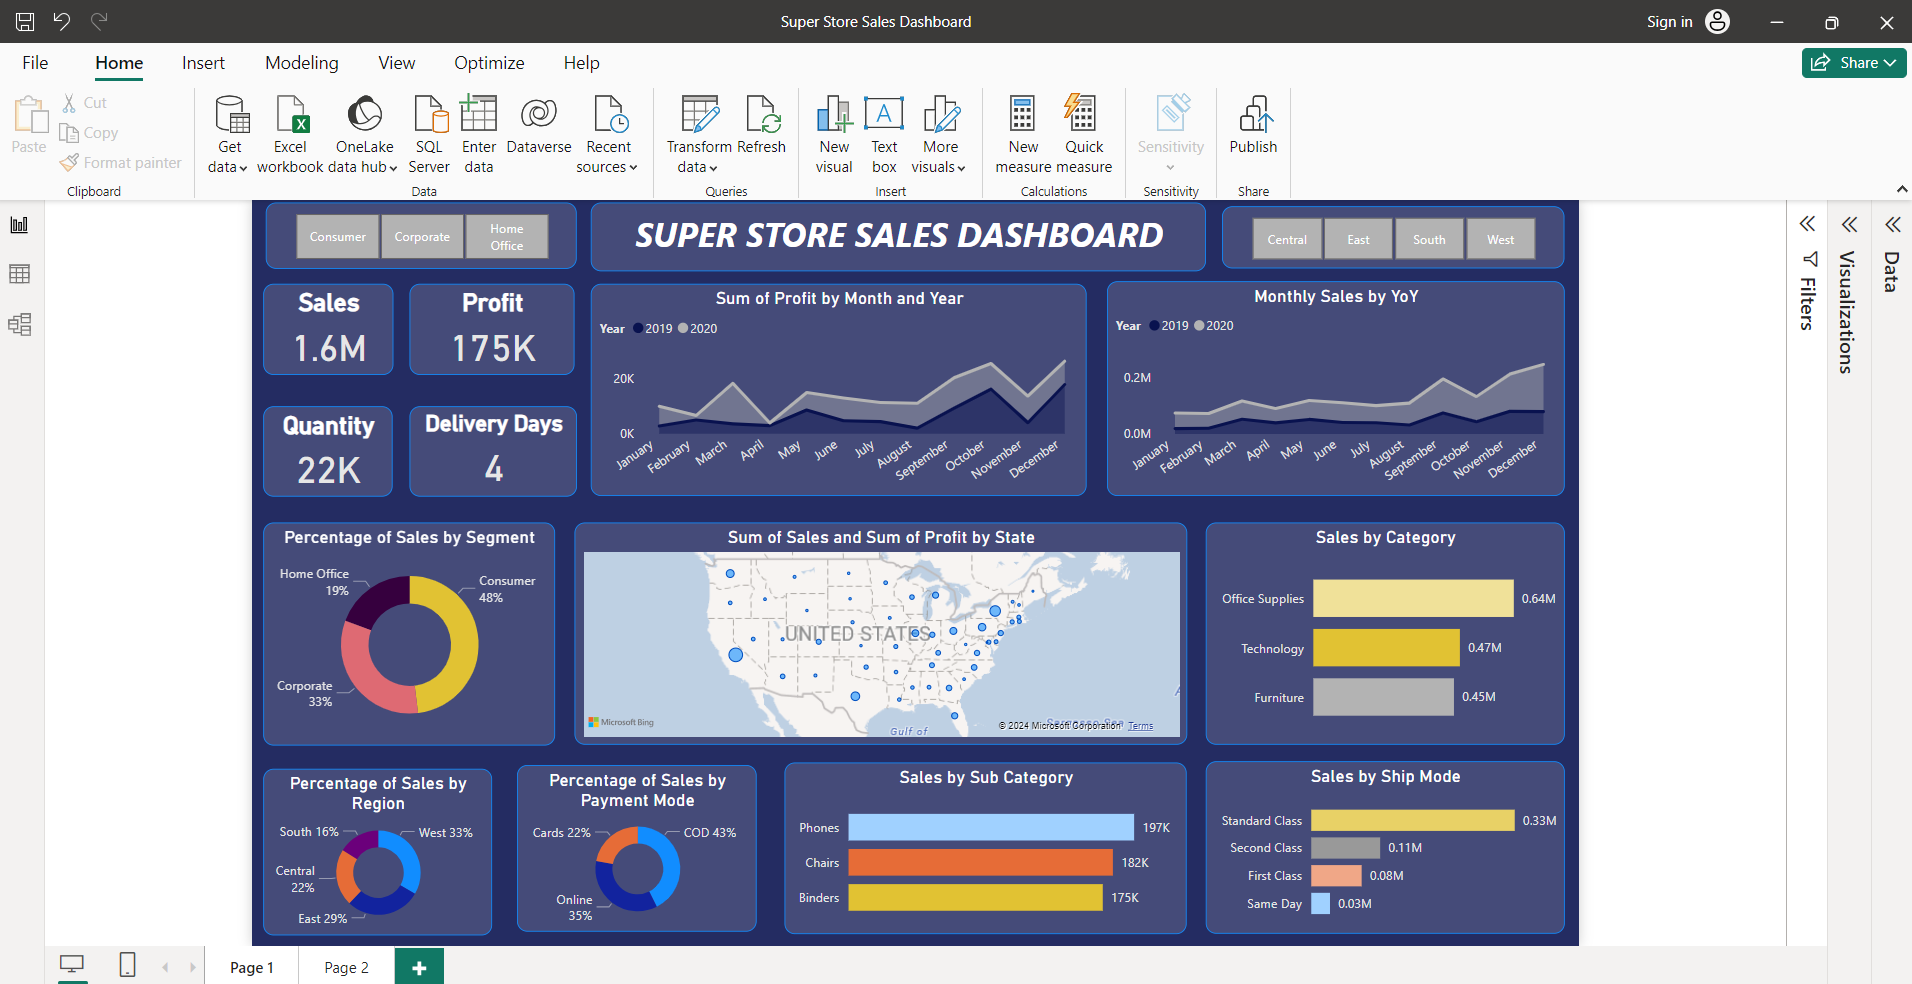

The dashboard page shown, as its layout file describes it:
{"tool":"powerbi","page":{"name":"Page 1","canvas":[1280,720],"ordinal":0},"visuals":[{"type":"clusteredBarChart","title":"Sales by Category","fields":{"Category":["SuperStore_Sales_Dataset.Category"],"Y":["Sum(SuperStore_Sales_Dataset.Sales)"]},"box":[920.2,311.2,346.1,214.7],"z":0},{"type":"clusteredBarChart","title":"Sales by Sub Category","fields":{"Category":["SuperStore_Sales_Dataset.Sub-Category"],"Y":["Sum(SuperStore_Sales_Dataset.Sales)"]},"box":[513.8,542.7,388.3,165.2],"z":1000},{"type":"clusteredBarChart","title":"Sales by Ship Mode","fields":{"Category":["SuperStore_Sales_Dataset.Ship Mode"],"Y":["Sum(SuperStore_Sales_Dataset.Sales)"]},"box":[920,541.2,346.2,166.2],"z":2000},{"type":"stackedAreaChart","title":"Monthly Sales by YoY","fields":{"Y":["Sum(SuperStore_Sales_Dataset.Sales)"],"Category":["SuperStore_Sales_Dataset.Order Date.Variation.Date Hierarchy.Month","SuperStore_Sales_Dataset.Order Date.Variation.Date Hierarchy.Day"],"Series":["SuperStore_Sales_Dataset.Order Date.Variation.Date Hierarchy.Year"]},"box":[825,78.8,441.2,207.5],"z":3000},{"type":"stackedAreaChart","fields":{"Category":["SuperStore_Sales_Dataset.Order Date.Variation.Date Hierarchy.Month","SuperStore_Sales_Dataset.Order Date.Variation.Date Hierarchy.Day"],"Series":["SuperStore_Sales_Dataset.Order Date.Variation.Date Hierarchy.Year"],"Y":["Sum(SuperStore_Sales_Dataset.Profit)"]},"box":[326.2,81.2,478.8,205],"z":4000},{"type":"map","fields":{"Category":["SuperStore_Sales_Dataset.State"],"Size":["Sum(SuperStore_Sales_Dataset.Sales)"]},"box":[311.2,311.2,591,214.7],"z":5000},{"type":"donutChart","title":"Percentage of Sales by Segment","fields":{"Category":["SuperStore_Sales_Dataset.Segment"],"Y":["Sum(SuperStore_Sales_Dataset.Sales)"]},"box":[11.2,311.2,281.2,215],"z":6000},{"type":"donutChart","title":"Percentage of Sales by Payment Mode","fields":{"Category":["SuperStore_Sales_Dataset.Payment Mode"],"Y":["Sum(SuperStore_Sales_Dataset.Sales)"]},"box":[255.7,545.1,231.6,160.4],"z":7000},{"type":"slicer","fields":{"Values":["SuperStore_Sales_Dataset.Region"]},"box":[936.2,6.2,330,60],"z":8000},{"type":"textbox","box":[326.2,2.5,593.8,66.2],"z":9000},{"type":"card","title":"Sales","fields":{"Values":["Sum(SuperStore_Sales_Dataset.Sales)"]},"box":[11.2,81.2,125,87.5],"z":10000},{"type":"card","title":"Quantity","fields":{"Values":["Sum(SuperStore_Sales_Dataset.Quantity)"]},"box":[11.2,198.8,125,87.5],"z":11000},{"type":"card","title":"Profit","fields":{"Values":["Sum(SuperStore_Sales_Dataset.Profit)"]},"box":[161.2,81.2,152.5,87.5],"z":12000},{"type":"card","title":"Delivery Days","fields":{"Values":["Avg(SuperStore_Sales_Dataset.AvgDelievery)"]},"box":[162.5,198.8,151.2,87.5],"z":13000},{"type":"donutChart","title":"Percentage of Sales by Region","fields":{"Category":["SuperStore_Sales_Dataset.Region"],"Y":["Sum(SuperStore_Sales_Dataset.Sales)"]},"box":[10.9,548.7,220.7,160.4],"z":14000},{"type":"slicer","fields":{"Values":["SuperStore_Sales_Dataset.Segment"]},"box":[11.2,2.5,300,63.8],"z":15000}]}

Visuals, with their boxes on the page's 1280x720 design canvas (x1, y1, x2, y2). These are canvas units, not pixel positions in the 1912x984 screenshot, which may show the page scaled, cropped or inside an application window:
"Sales by Category" clusteredBarChart: pyautogui.locateOnScreen(920, 311, 1266, 526)
"Sales by Sub Category" clusteredBarChart: pyautogui.locateOnScreen(514, 543, 902, 708)
"Sales by Ship Mode" clusteredBarChart: pyautogui.locateOnScreen(920, 541, 1266, 707)
"Monthly Sales by YoY" stackedAreaChart: pyautogui.locateOnScreen(825, 79, 1266, 286)
stackedAreaChart - SuperStore_Sales_Dataset.Order Date.Variation.Date Hierarchy.Month x SuperStore_Sales_Dataset.Order Date.Variation.Date Hierarchy.Day: pyautogui.locateOnScreen(326, 81, 805, 286)
map - SuperStore_Sales_Dataset.State x Sum(SuperStore_Sales_Dataset.Sales): pyautogui.locateOnScreen(311, 311, 902, 526)
"Percentage of Sales by Segment" donutChart: pyautogui.locateOnScreen(11, 311, 292, 526)
"Percentage of Sales by Payment Mode" donutChart: pyautogui.locateOnScreen(256, 545, 487, 706)
slicer - SuperStore_Sales_Dataset.Region: pyautogui.locateOnScreen(936, 6, 1266, 66)
textbox: pyautogui.locateOnScreen(326, 2, 920, 69)
"Sales" card: pyautogui.locateOnScreen(11, 81, 136, 169)
"Quantity" card: pyautogui.locateOnScreen(11, 199, 136, 286)
"Profit" card: pyautogui.locateOnScreen(161, 81, 314, 169)
"Delivery Days" card: pyautogui.locateOnScreen(162, 199, 314, 286)
"Percentage of Sales by Region" donutChart: pyautogui.locateOnScreen(11, 549, 232, 709)
slicer - SuperStore_Sales_Dataset.Segment: pyautogui.locateOnScreen(11, 2, 311, 66)
